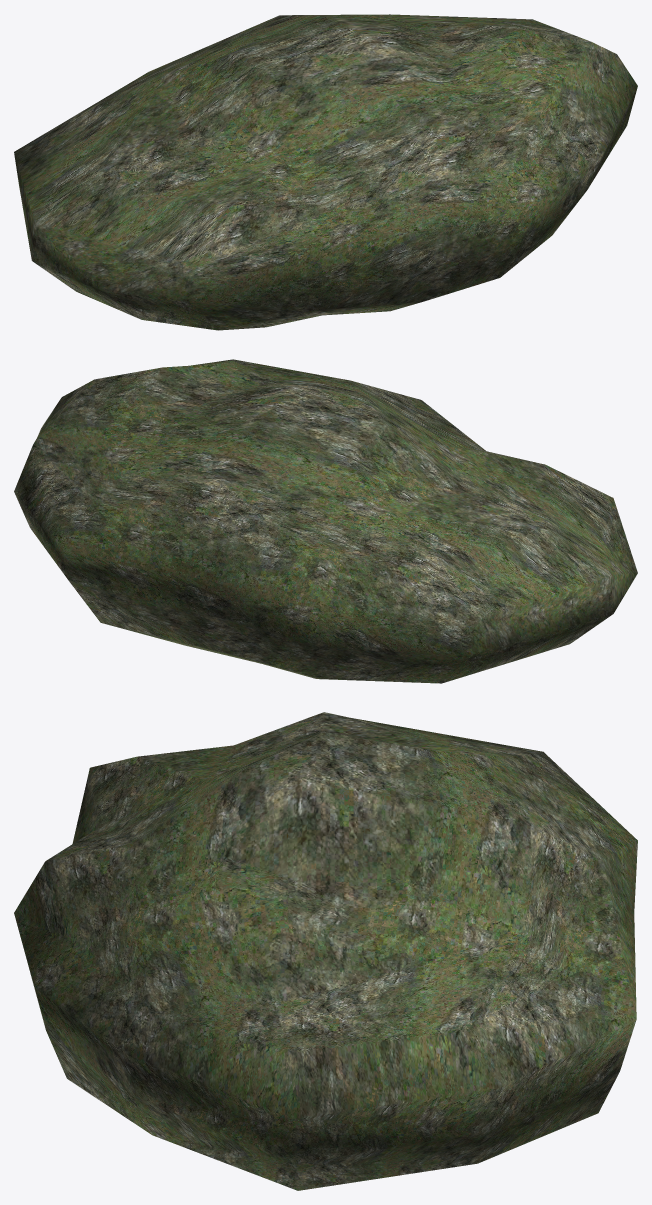
The model's file is mtns_rock_moss_a2_l0.fbx.
The picture shows the model from 3 angles, top to bottom: view 1: azimuth 30°, elevation 25°; view 2: azimuth 150°, elevation 25°; view 3: azimuth 270°, elevation 25°; orthographic projection. The views are drawn at different scales.
Visible parts, largest first — view 1: mesh_node; view 2: mesh_node; view 3: mesh_node.
Boxes of the visible parts, x1,y1,x2,y2 form: mesh_node: (14,14,637,330); mesh_node: (14,359,637,683); mesh_node: (14,712,637,1190).
Size of the model in its own units: 3.4 by 1.21 by 2.2.
